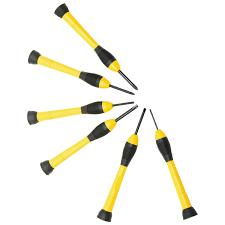screwdriver: (52, 1, 139, 91), (52, 1, 138, 90), (39, 102, 137, 176), (39, 102, 137, 175), (95, 105, 147, 222), (147, 106, 198, 221), (96, 105, 146, 222), (148, 107, 197, 220), (26, 47, 135, 96), (27, 48, 135, 96), (25, 98, 135, 125), (26, 99, 134, 124)
